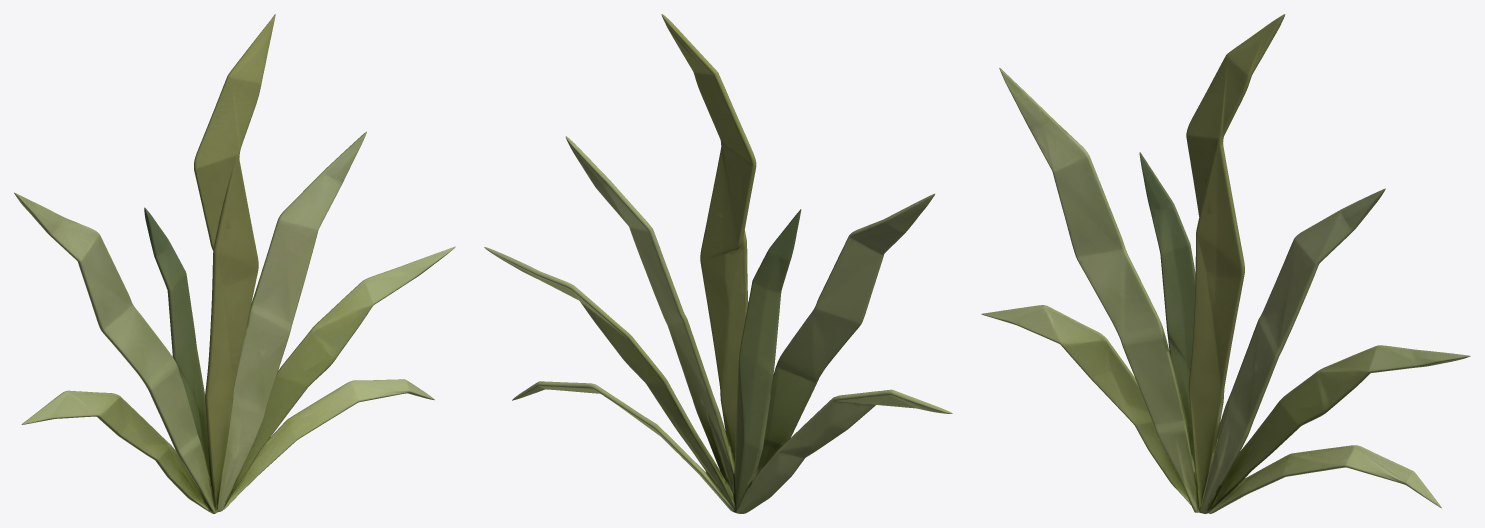
File: grass.glb
The picture shows the model from 3 angles, left to right: view 1: azimuth 30°, elevation 25°; view 2: azimuth 150°, elevation 25°; view 3: azimuth 330°, elevation 25°; orthographic projection. The views are drawn at different scales.
Parts seen in each view (by area): view 1: node_0; view 2: node_0; view 3: node_0.
Boxes of the visible parts, x1,y1,x2,y2 form: node_0: (14, 14, 455, 513); node_0: (484, 14, 952, 513); node_0: (981, 14, 1470, 513).
Size of the model in its own units: 1.01 by 1.03 by 0.0825.
Materials: 1 (1 with a texture image).
